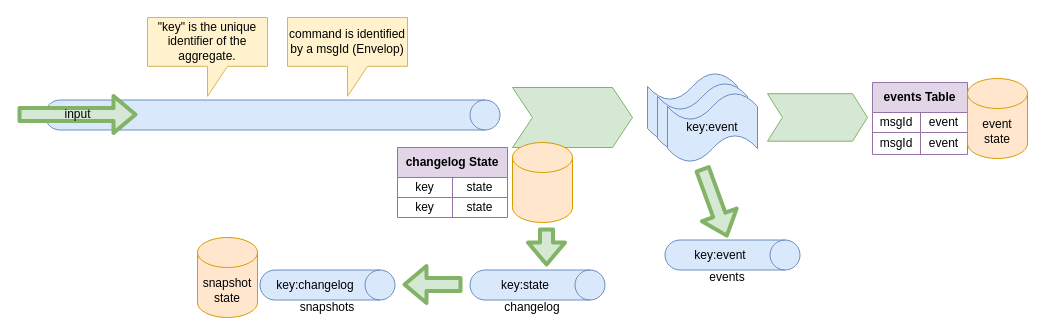
This 1045x335 diagram has some shape labels left out. The centre of each missing label's shape, as x and y in pixels:
key:command: [272,114]
repartition to msgId:event: [817,117]
transform state: [542,182]
value is transformed using a state: [572,117]
